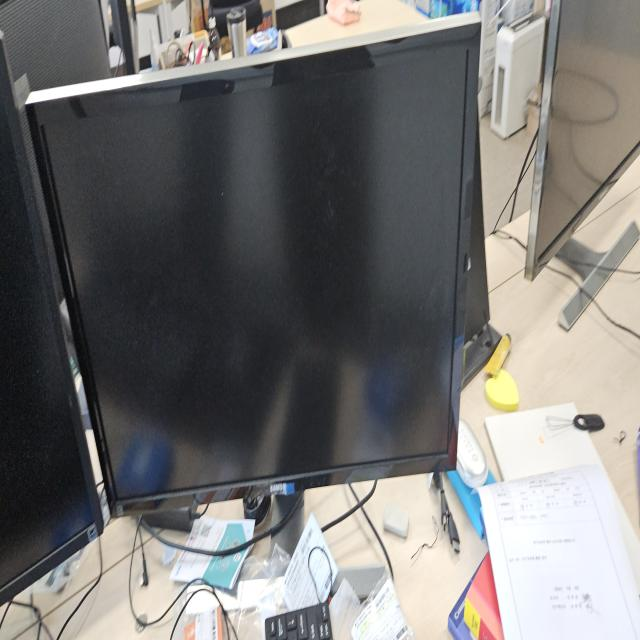Monitor: (23, 13, 490, 533)
